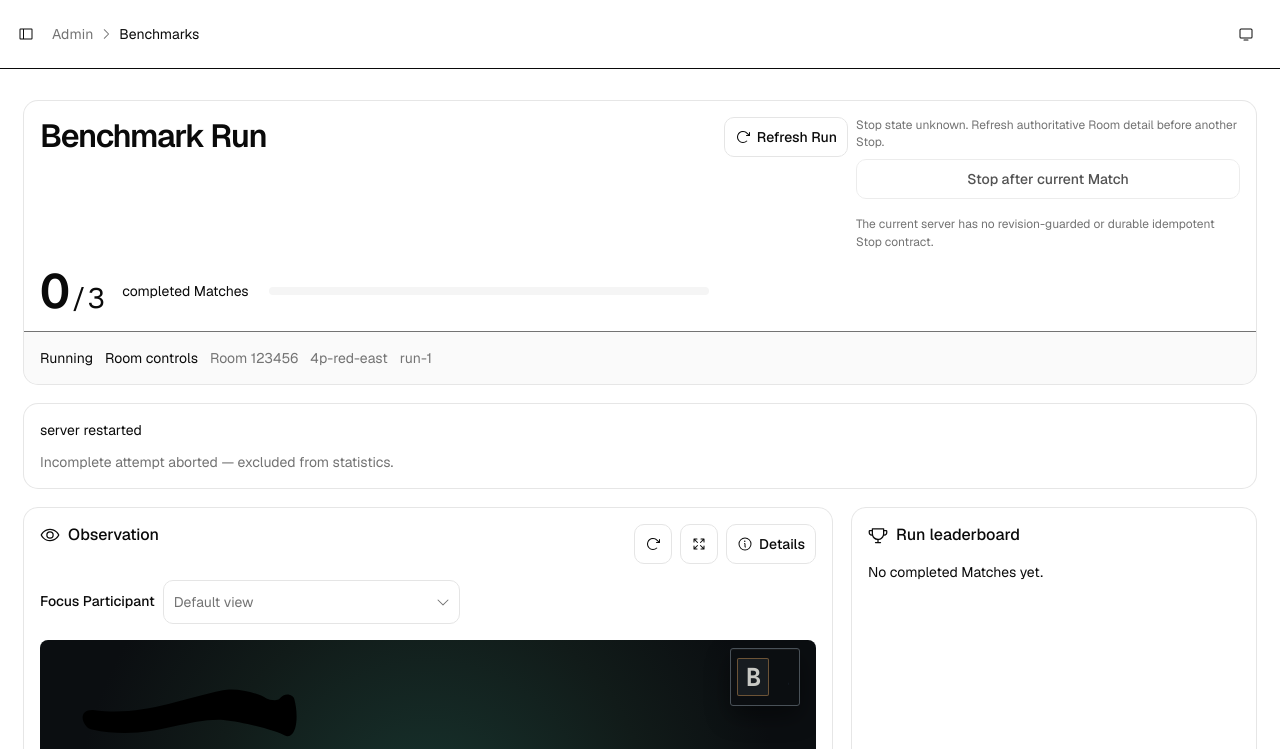
Test: removes private snapshots and leaves the Admin surface after a live read returns 401
This screenshot has width=1280, height=749.
Click the button "Details": click(771, 544) [726, 524, 816, 564]
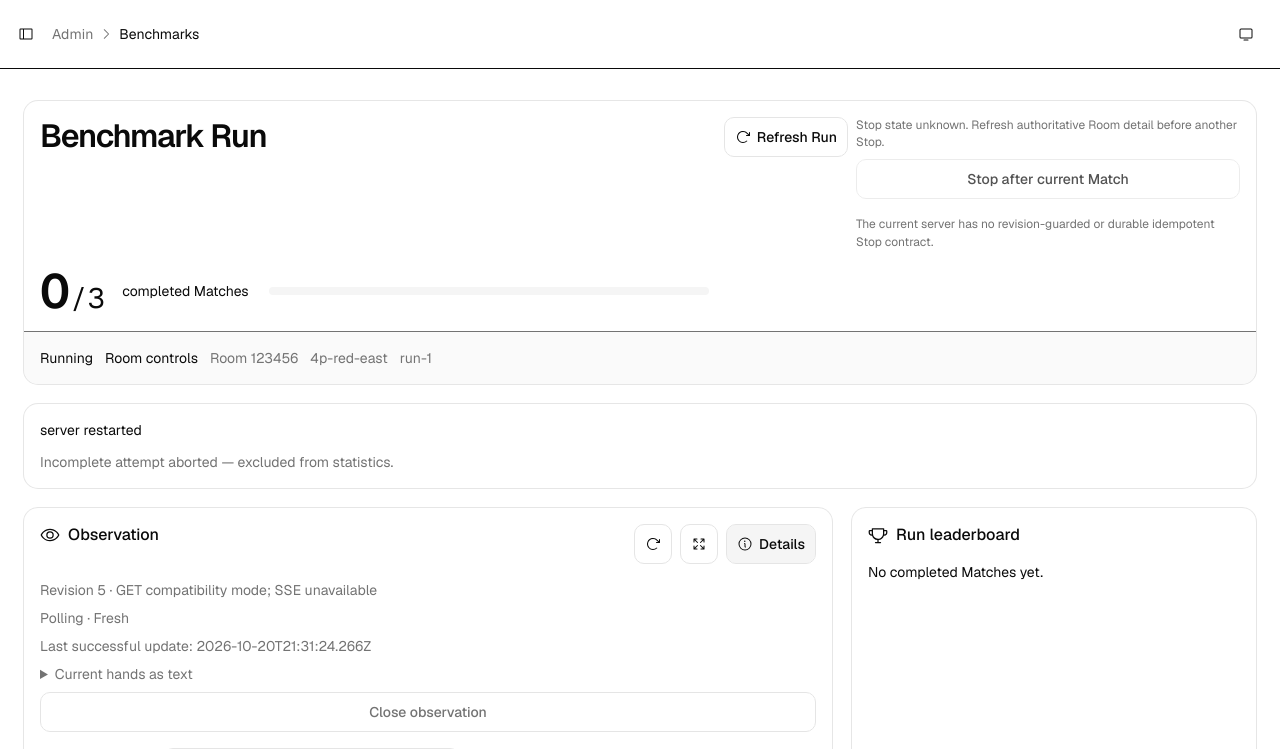
Click the button "Close observation": click(428, 712) [40, 692, 816, 732]
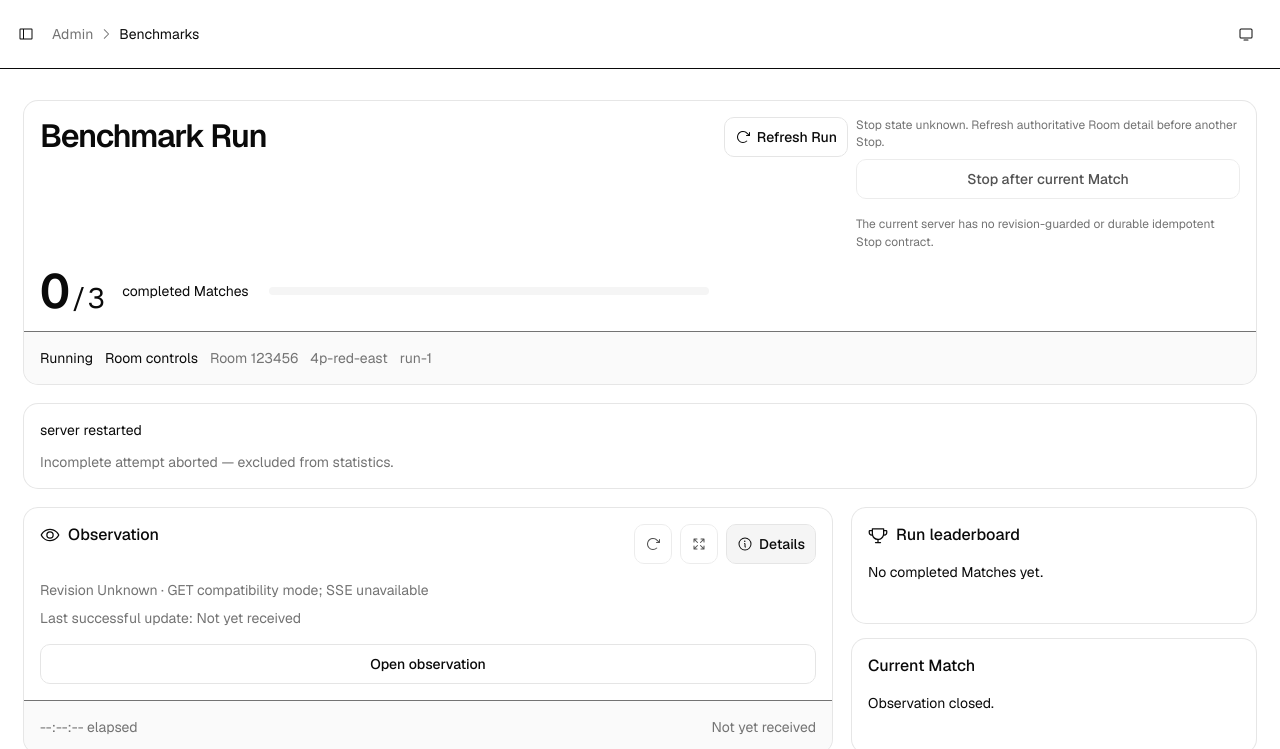
Click the button "Open observation": click(428, 664) [40, 644, 816, 684]
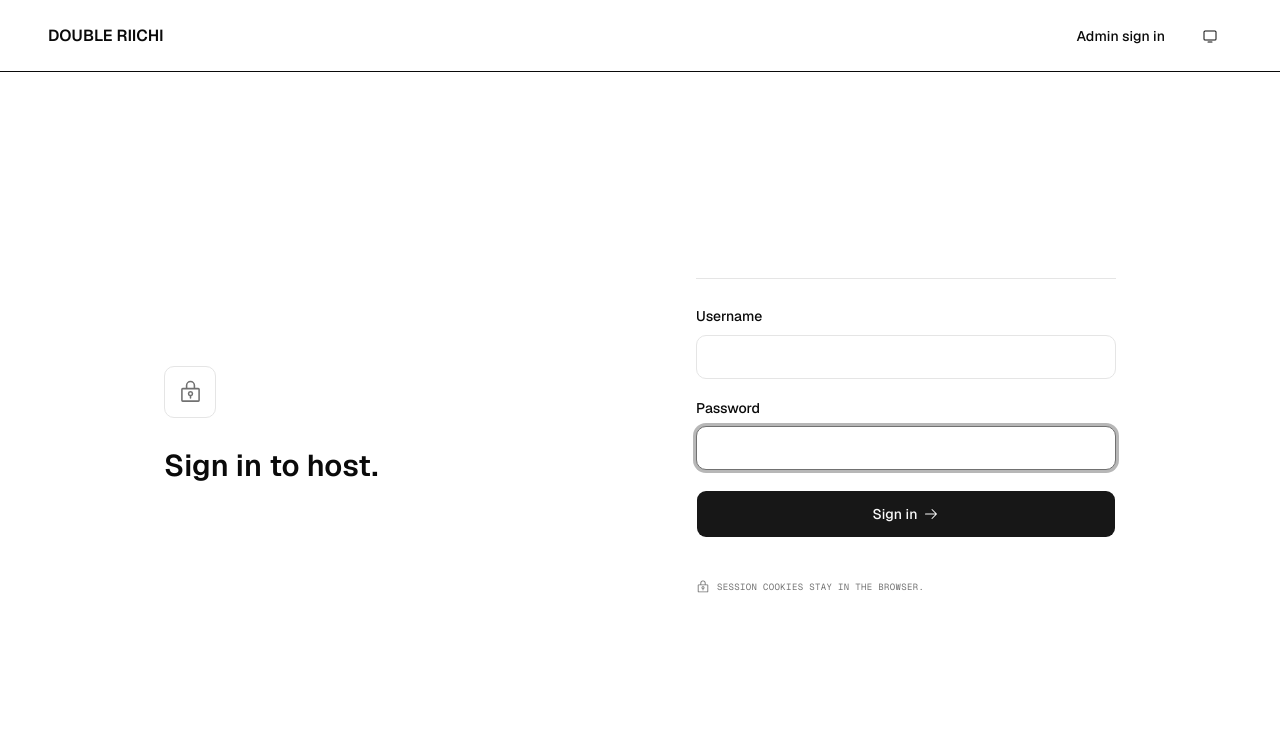
expect the heading "Sign in to host." is shown: met, box [164, 446, 378, 485]
